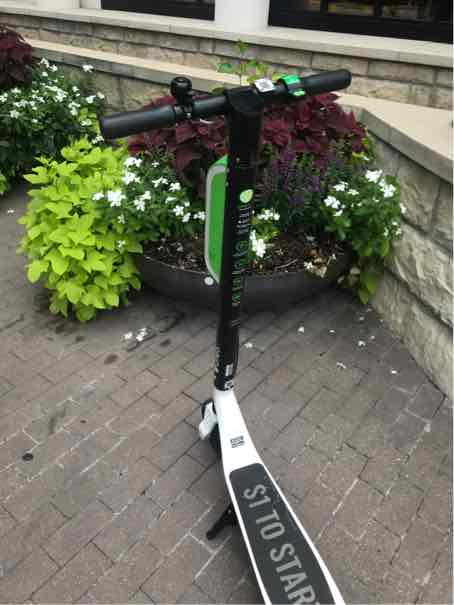scooter: (82, 71, 407, 605)
